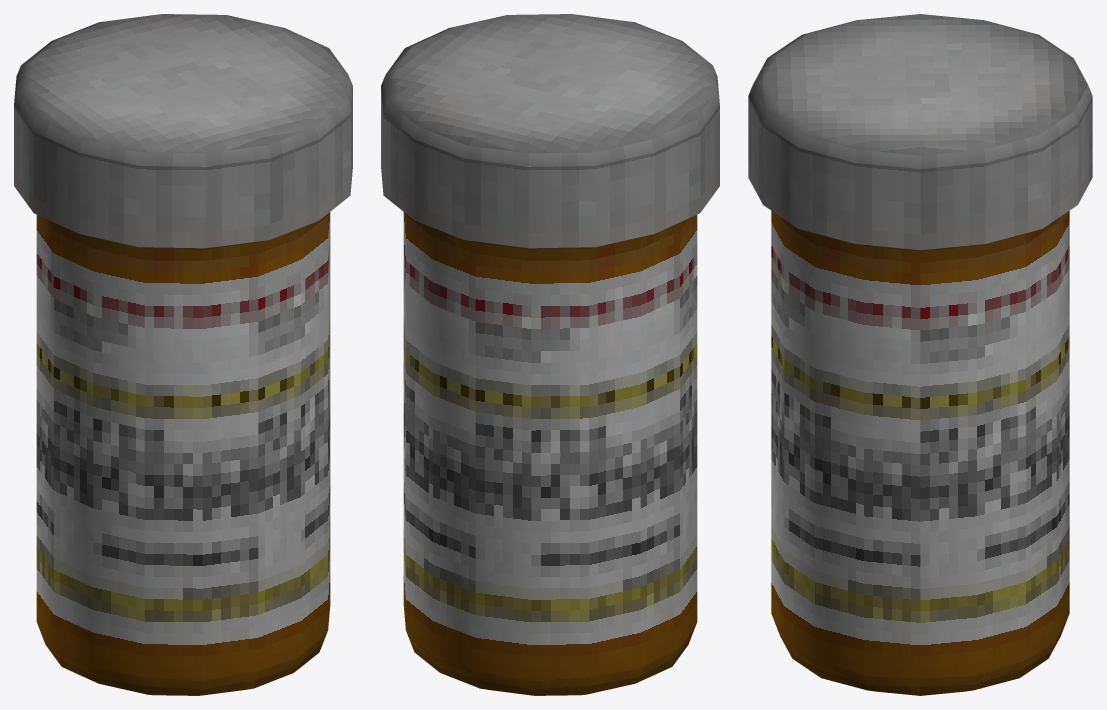
Rendered from pills_bottle_1_2.glb.
The picture shows the model from 3 angles, left to right: view 1: azimuth 30°, elevation 25°; view 2: azimuth 150°, elevation 25°; view 3: azimuth 270°, elevation 25°; orthographic projection.
Visible parts, largest first — view 1: pills_bottle_1_2; view 2: pills_bottle_1_2; view 3: pills_bottle_1_2.
Part boxes in pixels (<box>): pills_bottle_1_2: <box>14,14,352,695</box>; pills_bottle_1_2: <box>381,14,719,695</box>; pills_bottle_1_2: <box>748,14,1092,695</box>.
Size of the model in its own units: 0.0629 by 0.1139 by 0.0629.
1 material, 1 textured.
